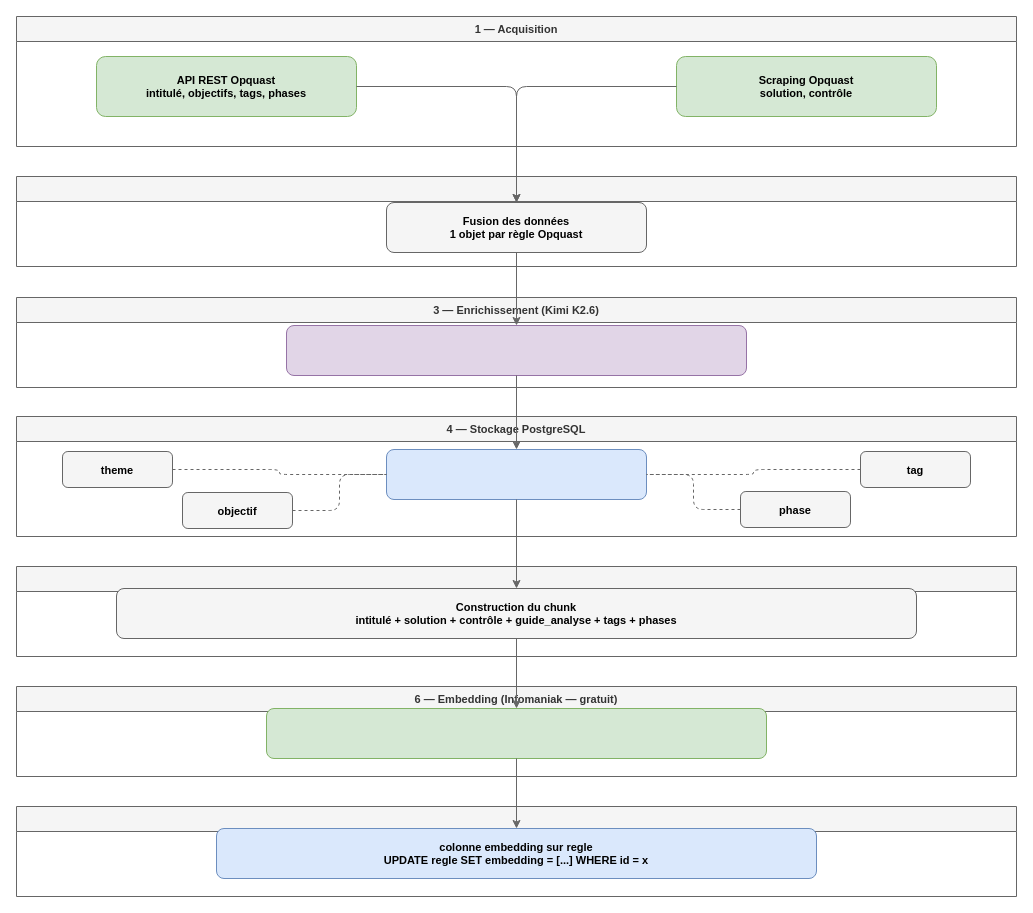
This 1033x913 diagram has some shape labels left out. The shapes that lost their labels are listed below. From the top down, each one's box as (x1, y1, x2, y2) in pixels, then its label:
(16, 176, 1016, 266): 2 — Agrégation
(286, 324, 746, 376): Agent enrichissement stratégie + justification + guide_analyse
(386, 448, 646, 500): regle champs Opquast + champs IA
(16, 566, 1016, 656): 5 — Chunking (1 chunk = 1 règle)
(266, 708, 766, 758): All MiniLM L12 v2 384 dimensions — sans appel GPU
(16, 806, 1016, 896): 7 — Indexation pgvector
